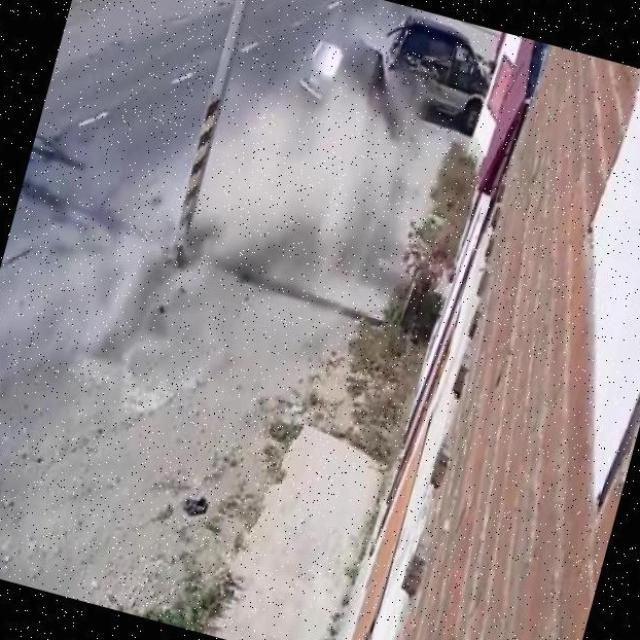accident: (333, 6, 443, 121)
